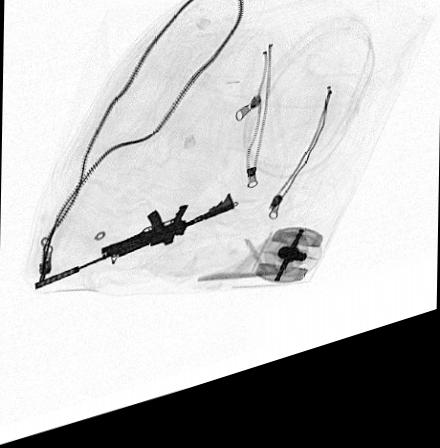Gun: (34, 206, 234, 294)
